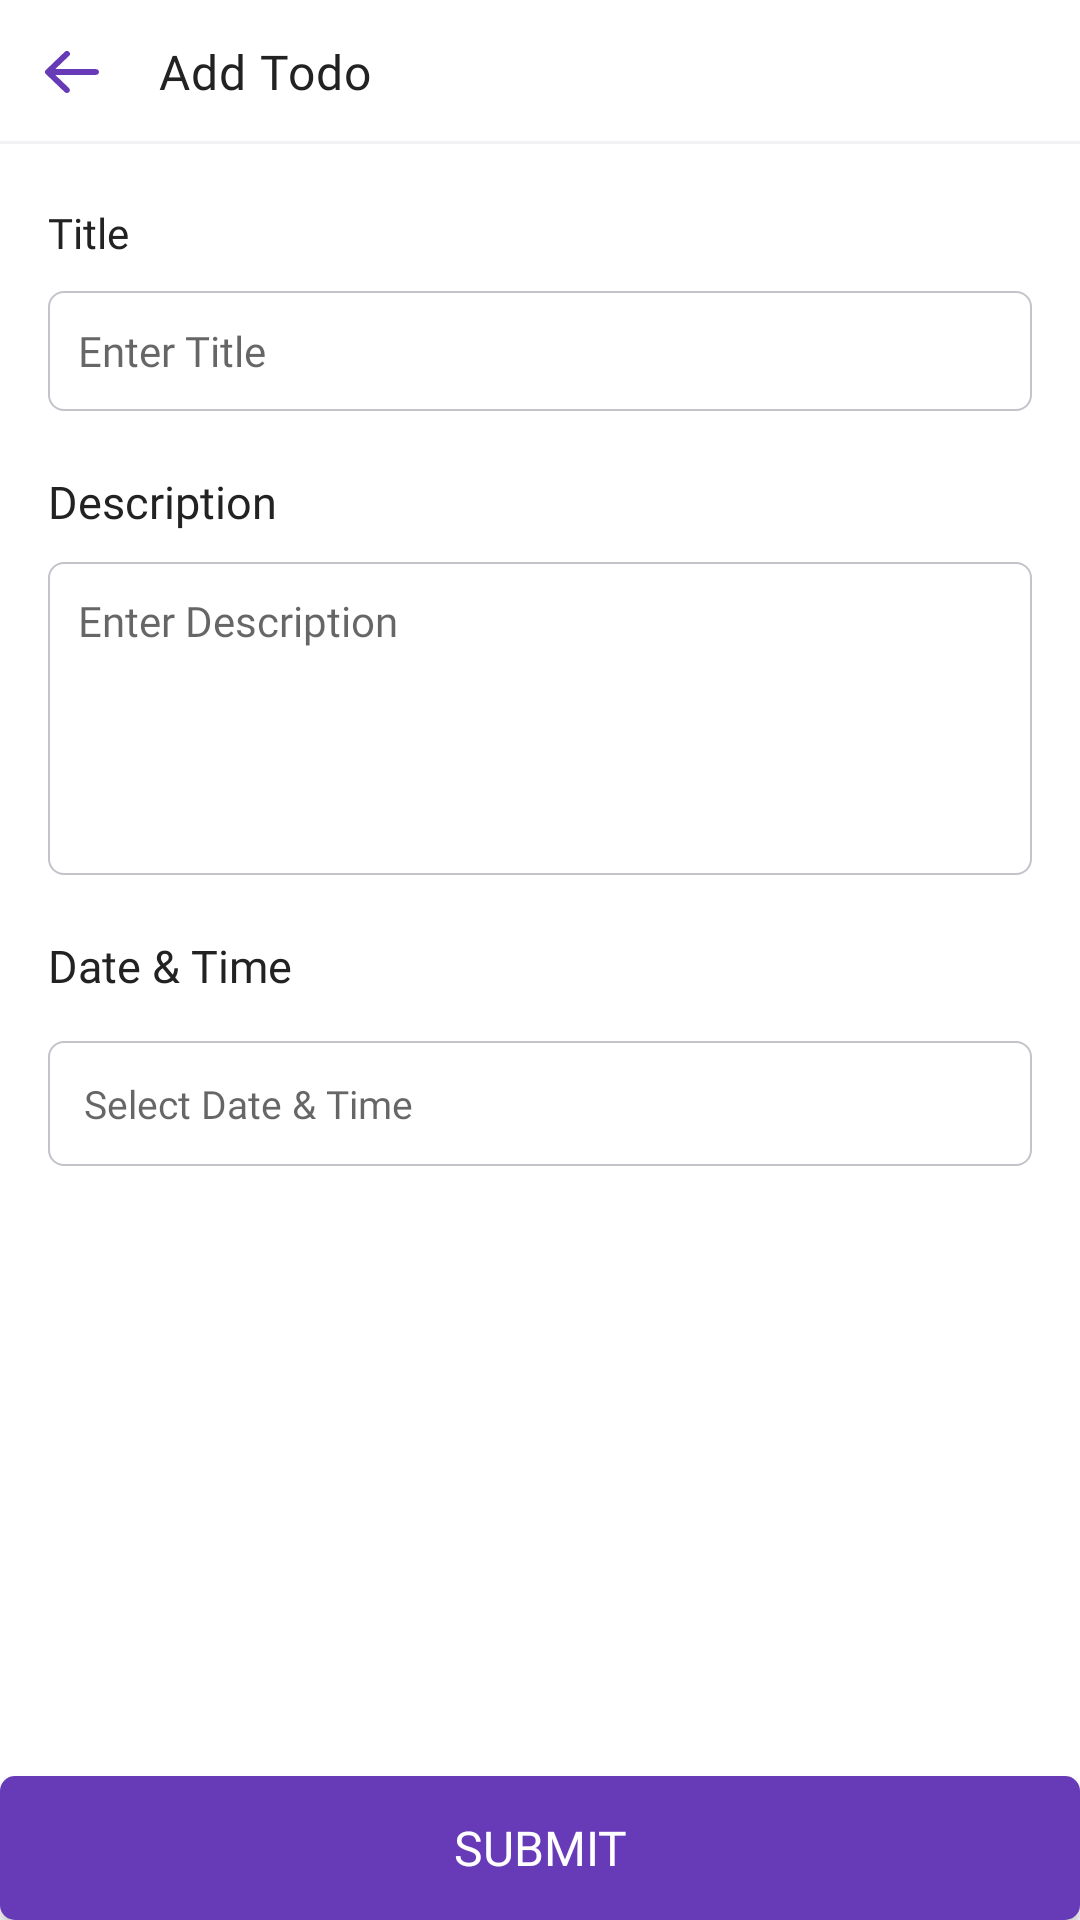

Screen size 1080×1920. Icon name, then its box in pixels as [x1=x1, y1=y1, x2=x2, y2=y2]:
back arrow: [x1=45, y1=51, x2=99, y2=93]
